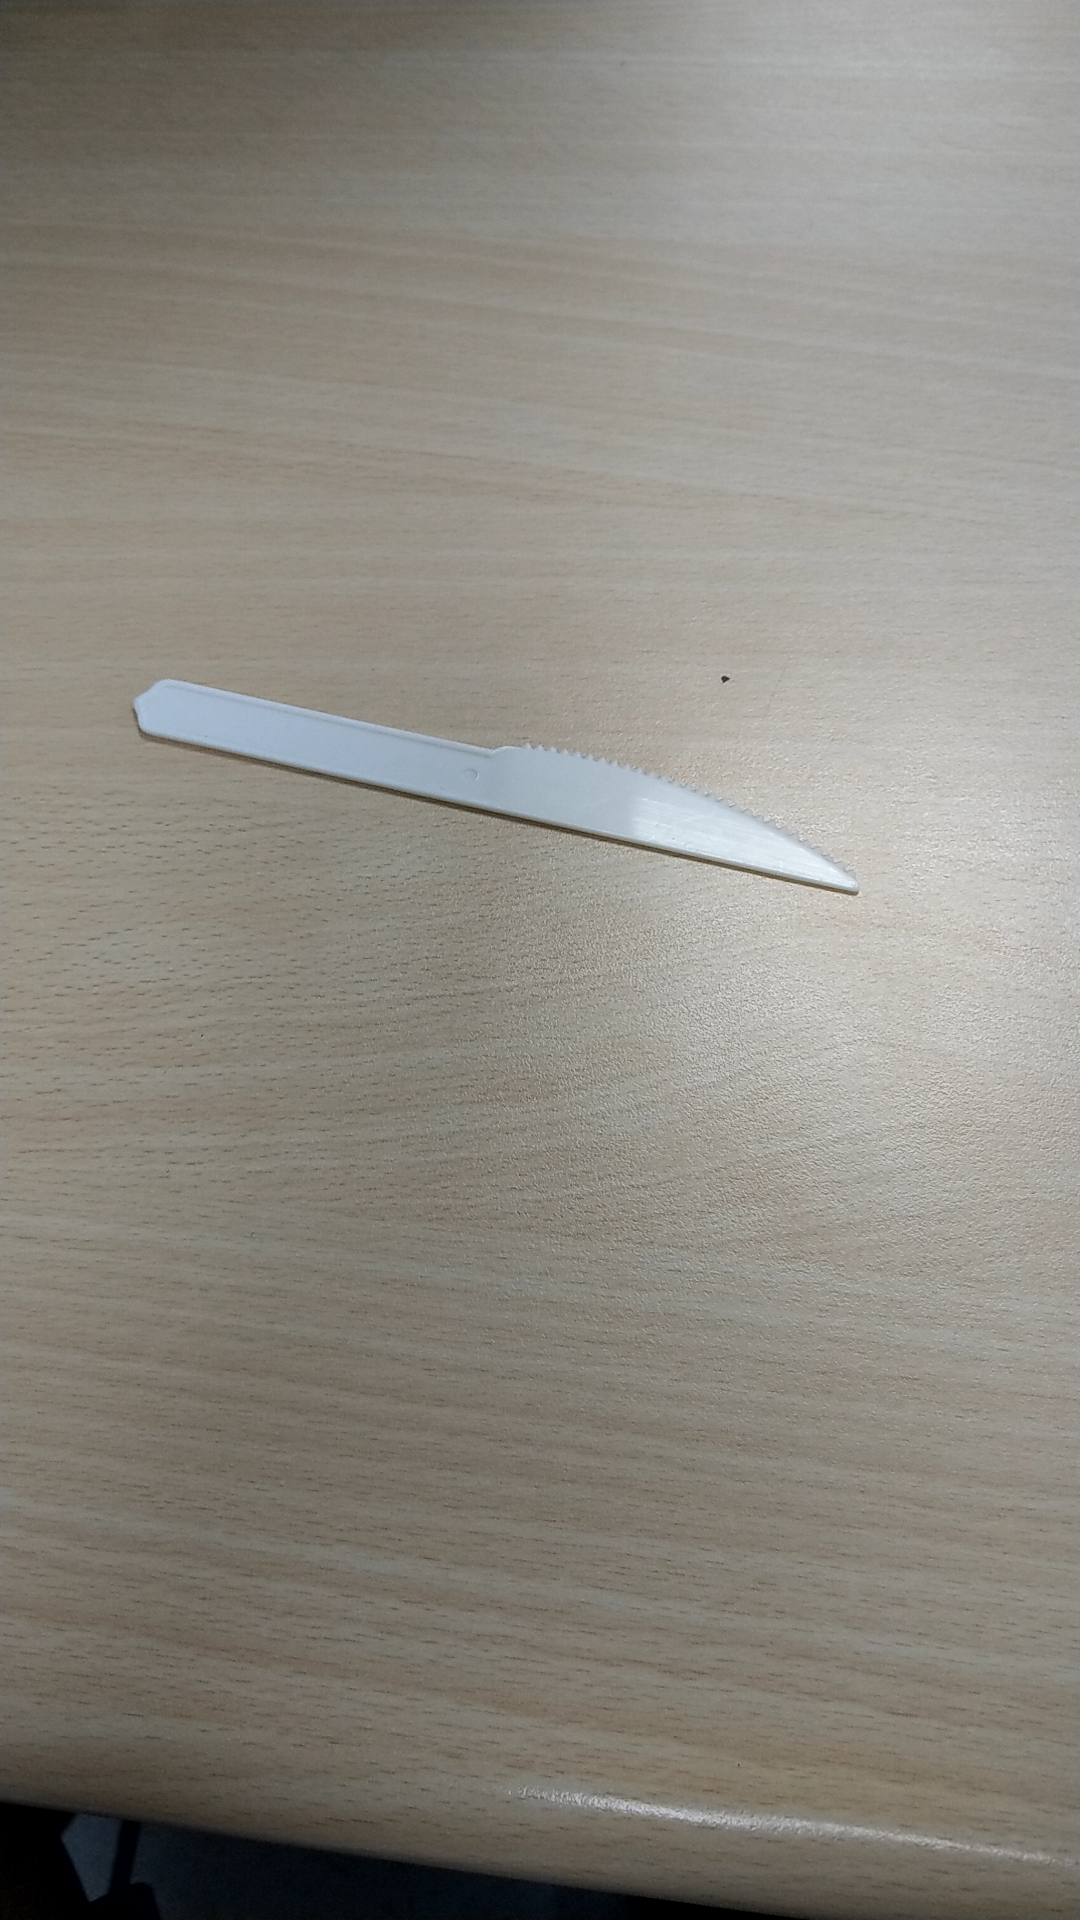knife: (105, 640, 873, 918)
